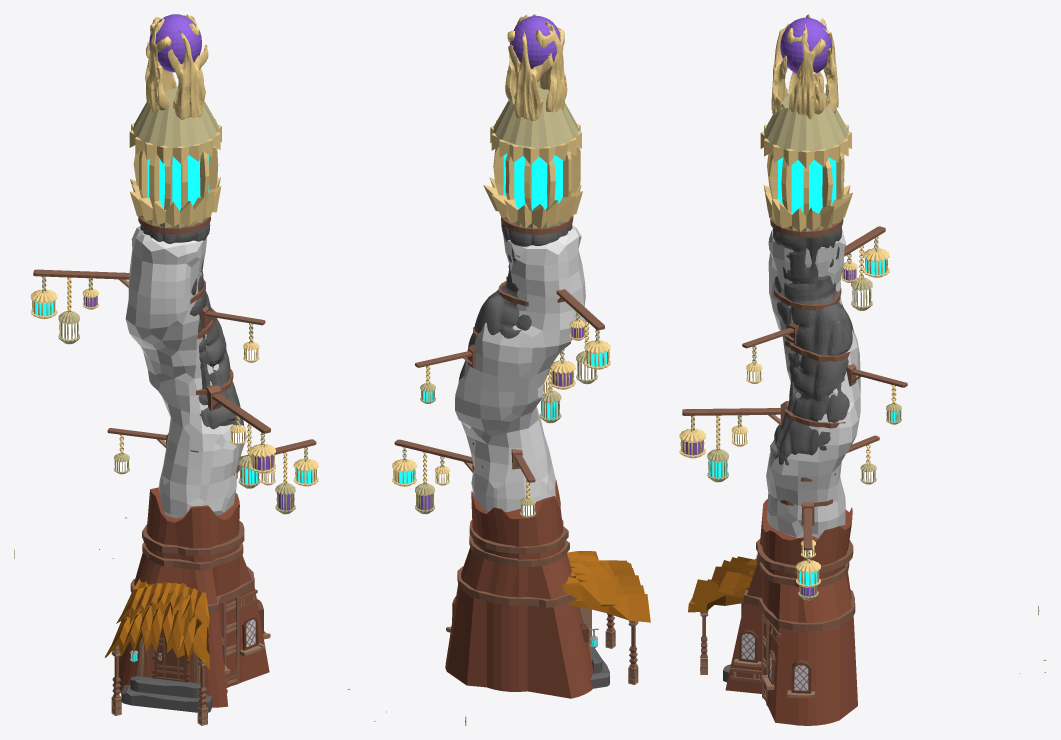
3 renders of one model, left to right at view 1: azimuth 30°, elevation 25°; view 2: azimuth 150°, elevation 25°; view 3: azimuth 270°, elevation 25°, orthographic.
Parts seen in each view (by area): view 1: Cylinder.001, Tower Main, Cylinder.002, Cube.015, Cylinder.010, Cube.040, Cone.002, Cylinder.003, Sphere, Cylinder.008, Cylinder.009, Cone.001 (+10 smaller); view 2: Cylinder.001, Tower Main, Cylinder.002, Cylinder.010, Cube.040, Cube.015, Cylinder.003, Cone.003, Cylinder.008, Sphere, Cone.001, Cylinder.009 (+7 smaller); view 3: Tower Main, Cylinder.002, Cylinder.001, Cylinder.010, Cone, Cylinder.003, Cylinder.008, Sphere, Cube.015, Cylinder.009, Cylinder.164, Cone.002 (+5 smaller).
Part boxes in pixels (x1=…): Cylinder.001: x1=125, y1=226, x2=246, y2=518; Tower Main: x1=119, y1=487, x2=269, y2=707; Cylinder.002: x1=140, y1=223, x2=243, y2=429; Cube.015: x1=105, y1=602, x2=209, y2=669; Cylinder.010: x1=133, y1=87, x2=218, y2=148; Cube.040: x1=116, y1=578, x2=209, y2=627; Cone.002: x1=168, y1=30, x2=208, y2=119; Cylinder.003: x1=130, y1=177, x2=221, y2=226; Sphere: x1=149, y1=14, x2=201, y2=72; Cylinder.008: x1=147, y1=154, x2=208, y2=210; Cylinder.009: x1=129, y1=119, x2=221, y2=164; Cone.001: x1=146, y1=17, x2=171, y2=112; Cylinder.001: x1=455, y1=225, x2=585, y2=511; Tower Main: x1=445, y1=480, x2=593, y2=698; Cylinder.002: x1=458, y1=222, x2=572, y2=467; Cylinder.010: x1=493, y1=87, x2=578, y2=148; Cube.040: x1=562, y1=551, x2=618, y2=606; Cube.015: x1=568, y1=560, x2=650, y2=622; Cylinder.003: x1=483, y1=177, x2=582, y2=229; Cone.003: x1=508, y1=30, x2=553, y2=120; Cylinder.008: x1=503, y1=153, x2=562, y2=210; Sphere: x1=510, y1=15, x2=560, y2=69; Cone.001: x1=535, y1=21, x2=567, y2=114; Cylinder.009: x1=490, y1=120, x2=581, y2=164; Tower Main: x1=725, y1=499, x2=857, y2=725; Cylinder.002: x1=773, y1=226, x2=854, y2=465; Cylinder.001: x1=766, y1=229, x2=860, y2=538; Cylinder.010: x1=764, y1=92, x2=848, y2=151; Cone: x1=787, y1=24, x2=825, y2=119; Cylinder.003: x1=763, y1=177, x2=852, y2=231; Cylinder.008: x1=778, y1=157, x2=836, y2=213; Sphere: x1=780, y1=17, x2=832, y2=73; Cube.015: x1=688, y1=556, x2=753, y2=612; Cylinder.009: x1=760, y1=124, x2=851, y2=168; Cylinder.164: x1=743, y1=589, x2=855, y2=631; Cone.002: x1=771, y1=23, x2=789, y2=114.
Size of the model in its own units: 2010 by 5094 by 2547.
